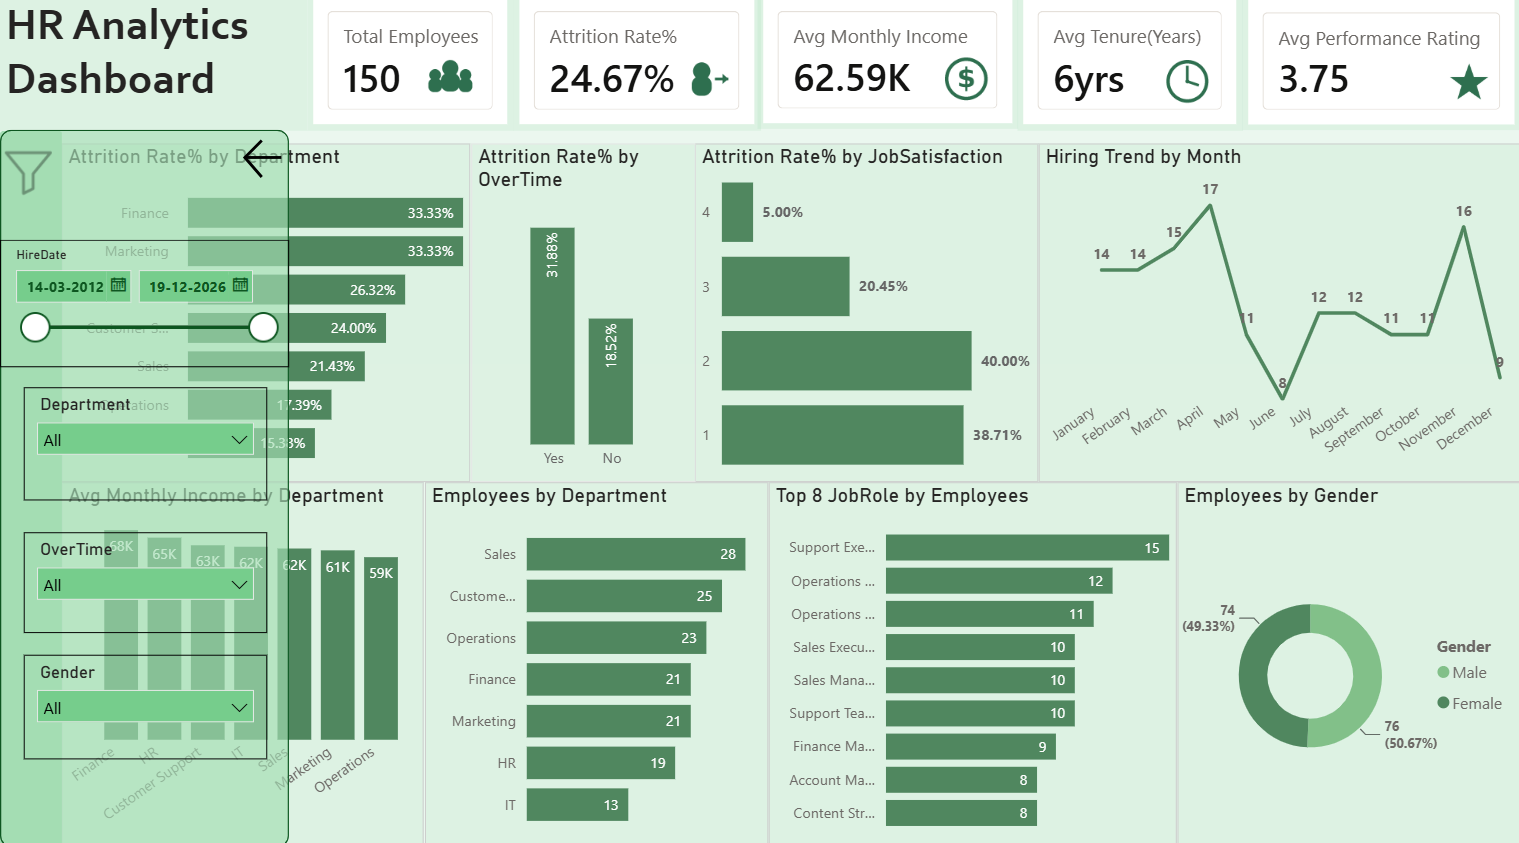

This screenshot's page, from the dashboard's own definition file:
{"tool":"powerbi","page":{"name":"Page 1","canvas":[1280,720],"ordinal":0},"visuals":[{"type":"cardVisual","fields":{"Data":["Measure.Net total employees"]},"box":[258.6,0,173.9,117.4],"z":0},{"type":"cardVisual","fields":{"Data":["Measure.Attrition Rate%"]},"box":[432.5,0,207.8,117.4],"z":1000},{"type":"cardVisual","fields":{"Data":["Measure.Avg Tenure(Years)"]},"box":[855.9,0,189.7,117.4],"z":2000},{"type":"cardVisual","fields":{"Data":["Measure.Avg_performance_rate"]},"box":[1045.6,1.1,234.9,116.3],"z":3000},{"type":"clusteredBarChart","fields":{"Category":["hr_analytics_dataset.Department"],"Y":["Measure.Attrition Rate%"]},"box":[51.9,128.7,344.4,284.5],"z":4000},{"type":"clusteredBarChart","fields":{"Y":["Measure.Attrition Rate%"],"Category":["hr_analytics_dataset.JobSatisfaction"]},"box":[584.9,128.7,289.1,284.5],"z":5000},{"type":"clusteredColumnChart","fields":{"Y":["Measure.Avg Monthly Income"],"Category":["hr_analytics_dataset.Department"]},"box":[51.9,413.3,304.9,306],"z":6000},{"type":"columnChart","fields":{"Category":["hr_analytics_dataset.OverTime"],"Y":["Measure.Attrition Rate%"]},"box":[396.3,128.7,188.6,284.5],"z":7000},{"type":"clusteredBarChart","title":"Top 8 JobRole by Employees","fields":{"Category":["hr_analytics_dataset.JobRole"],"Y":["Measure.Total Employees"]},"box":[647,413.3,343.3,307.1],"z":8000},{"type":"textbox","box":[0,0,258.6,117.4],"z":9000},{"type":"cardVisual","fields":{"Data":["Measure.Avg salary"]},"box":[636.8,0,219.1,116.3],"z":10000},{"type":"shape","box":[0,117.4,52.3,602.3],"z":11000},{"type":"actionButton","box":[0,129.1,52.3,47.7],"z":12000},{"type":"donutChart","title":"Employees by Gender","fields":{"Category":["hr_analytics_dataset.Gender"],"Y":["Measure.Total Employees"]},"box":[990.3,413.3,290.2,307.1],"z":13000},{"type":"clusteredBarChart","title":"Employees by Department","fields":{"Y":["Measure.Total Employees"],"Category":["hr_analytics_dataset.Department"]},"box":[357.9,413.3,289.1,306],"z":14000},{"type":"image","box":[345.5,49.7,65.5,48.6],"z":16000},{"type":"image","box":[568,49.7,54.2,48.6],"z":17000},{"type":"image","box":[787,49.7,50.8,48.6],"z":18000},{"type":"image","box":[971.1,51.9,54.2,48.6],"z":19000},{"type":"image","box":[1213.8,56.5,45.2,41.8],"z":20000},{"type":"lineChart","title":"Hiring Trend by Month","fields":{"Y":["Measure.Total Employees"],"Category":["hr_analytics_dataset.HireDate.Variation.Date Hierarchy.Year","hr_analytics_dataset.HireDate.Variation.Date Hierarchy.Month"]},"box":[874,128.7,406.5,284.5],"z":21000}]}

Visuals, with their boxes in screenshot pixels (x1, y1, x2, y2), scaled from the page's 1280x720 canvas onto the 1519x843 screenshot:
cardVisual - Measure.Net total employees: 307, 0, 513, 137
cardVisual - Measure.Attrition Rate%: 513, 0, 760, 137
cardVisual - Measure.Avg Tenure(Years): 1016, 0, 1241, 137
cardVisual - Measure.Avg_performance_rate: 1241, 1, 1518, 137
clusteredBarChart - hr_analytics_dataset.Department x Measure.Attrition Rate%: 62, 151, 470, 484
clusteredBarChart - Measure.Attrition Rate% x hr_analytics_dataset.JobSatisfaction: 694, 151, 1037, 484
clusteredColumnChart - Measure.Avg Monthly Income x hr_analytics_dataset.Department: 62, 484, 423, 842
columnChart - hr_analytics_dataset.OverTime x Measure.Attrition Rate%: 470, 151, 694, 484
"Top 8 JobRole by Employees" clusteredBarChart: 768, 484, 1175, 842
textbox: 0, 0, 307, 137
cardVisual - Measure.Avg salary: 756, 0, 1016, 136
shape: 0, 137, 62, 842
actionButton: 0, 151, 62, 207
"Employees by Gender" donutChart: 1175, 484, 1518, 842
"Employees by Department" clusteredBarChart: 425, 484, 768, 842
image: 410, 58, 488, 115
image: 674, 58, 738, 115
image: 934, 58, 994, 115
image: 1152, 61, 1217, 118
image: 1440, 66, 1494, 115
"Hiring Trend by Month" lineChart: 1037, 151, 1518, 484
